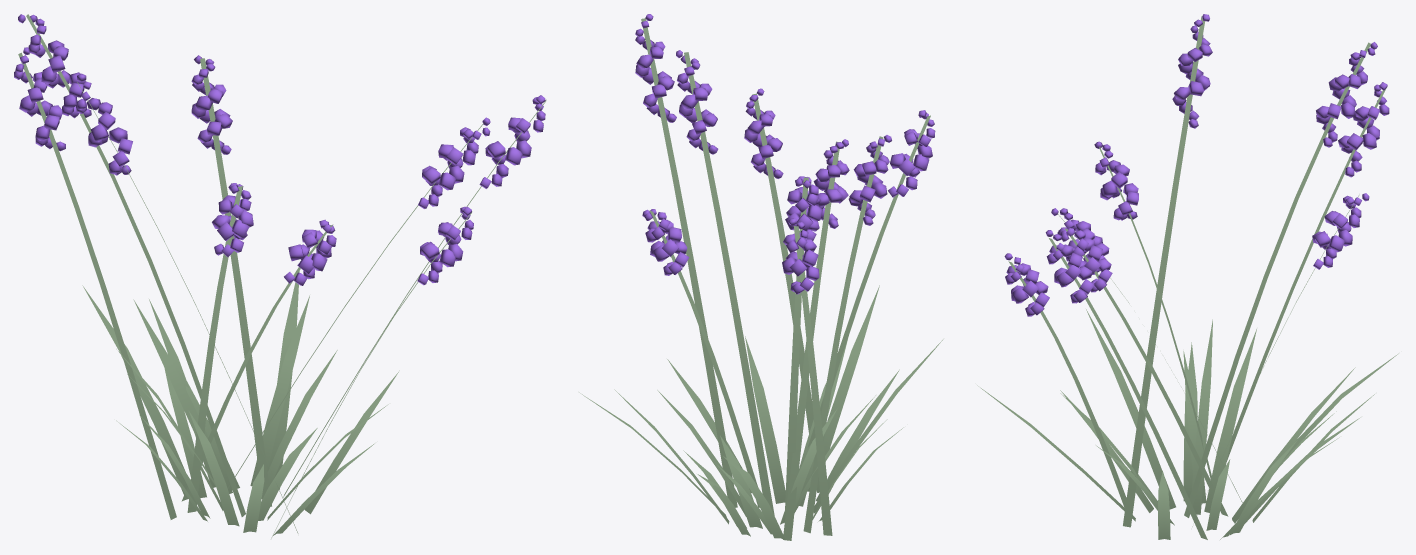
File: lavender1.gltf
The picture shows the model from 3 angles, left to right: view 1: azimuth 30°, elevation 25°; view 2: azimuth 150°, elevation 25°; view 3: azimuth 270°, elevation 25°; orthographic projection. The views are drawn at different scales.
Parts seen in each view (by area): view 1: lavender1_head_LOD0, lavender1_leaf_LOD0, lavender1_stalk_LOD0; view 2: lavender1_stalk_LOD0, lavender1_head_LOD0, lavender1_leaf_LOD0; view 3: lavender1_head_LOD0, lavender1_leaf_LOD0, lavender1_stalk_LOD0.
Boxes of the visible parts, <box> form: lavender1_head_LOD0: <box>14,14,545,285</box>; lavender1_leaf_LOD0: <box>82,261,399,535</box>; lavender1_stalk_LOD0: <box>18,14,546,538</box>; lavender1_stalk_LOD0: <box>641,18,930,540</box>; lavender1_head_LOD0: <box>635,14,935,294</box>; lavender1_leaf_LOD0: <box>579,285,943,539</box>; lavender1_head_LOD0: <box>1004,14,1389,316</box>; lavender1_leaf_LOD0: <box>977,309,1398,539</box>; lavender1_stalk_LOD0: <box>1008,16,1386,539</box>.
Size of what is drawn, in the model's own units: 0.4153 by 0.4768 by 0.4253.
